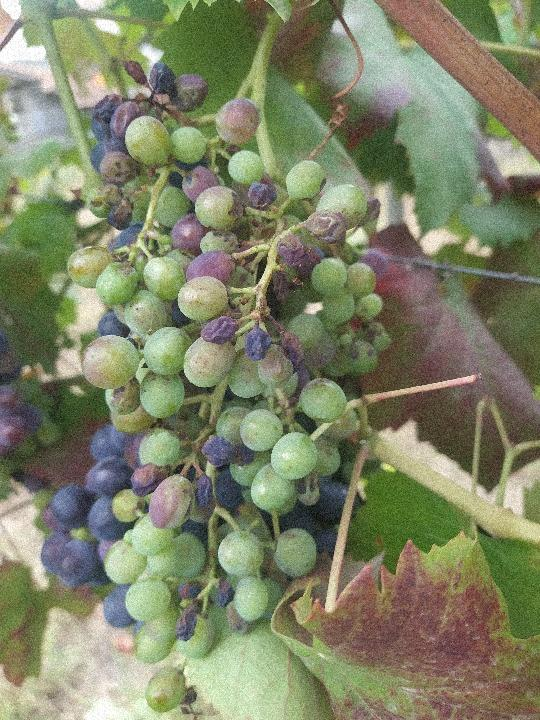grape: (40, 58, 389, 713)
